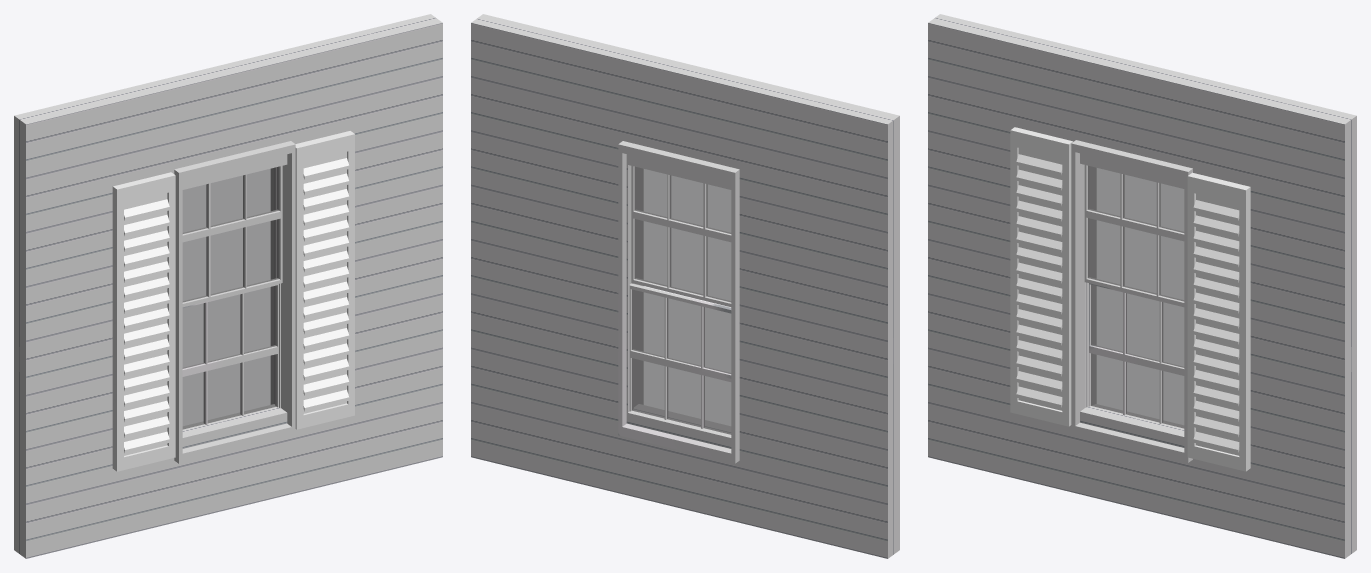
File: window-1.glb
3 views of the same model, side by side, from view 1: azimuth 30°, elevation 25°; view 2: azimuth 150°, elevation 25°; view 3: azimuth 330°, elevation 25° (orthographic).
Visible parts, largest first — view 1: Window; view 2: Window; view 3: Window.
Part boxes in pixels (bbox=[...]): Window: bbox=[14, 14, 442, 558]; Window: bbox=[471, 14, 899, 558]; Window: bbox=[928, 14, 1356, 558].
Bounding box in the file's own units: 2.52 × 2.51 × 0.2428.
3 materials, 1 textured.
